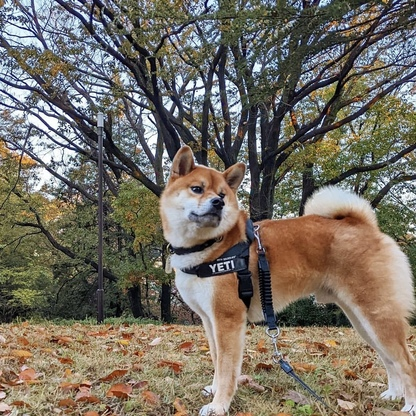shiba: (153, 140, 416, 413)
